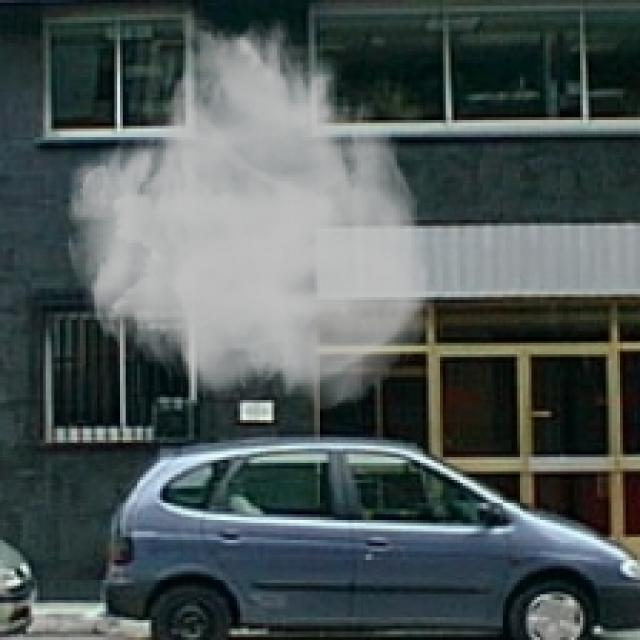smoke: (63, 6, 437, 414)
